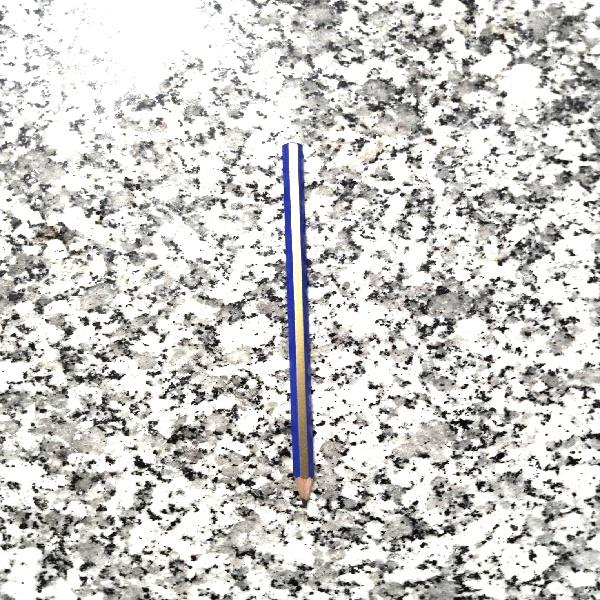pencil: (278, 139, 318, 519)
